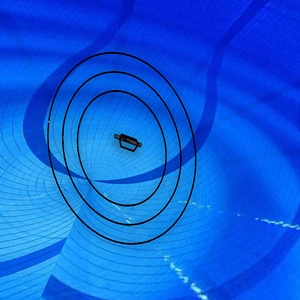circle: (44, 49, 200, 246)
submarine: (112, 129, 146, 154)
